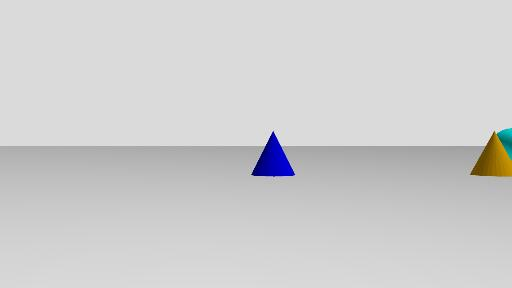blue_cone: (250, 131, 294, 176)
orange_cone: (469, 129, 512, 178)
